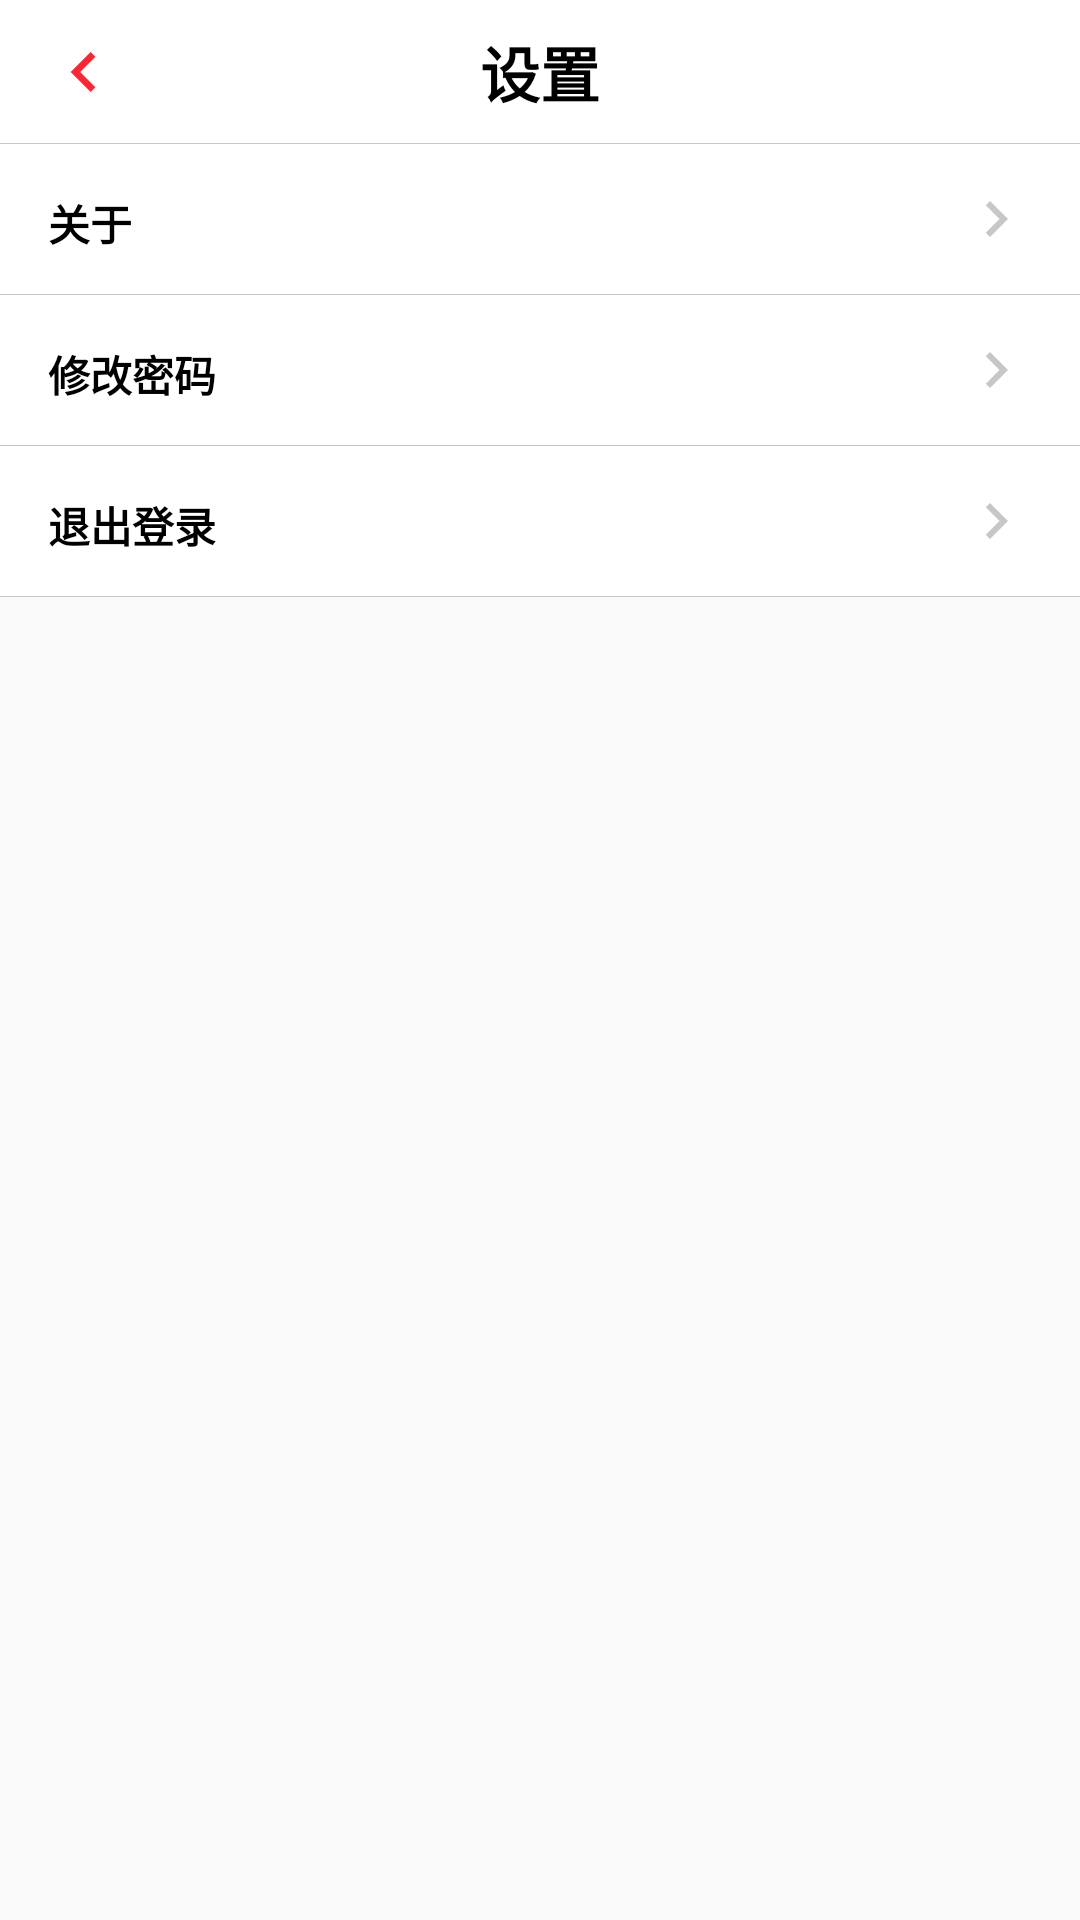

Icon click points for this 1080×1920 phone screenshot, format (x,y):
back: (83,72)
